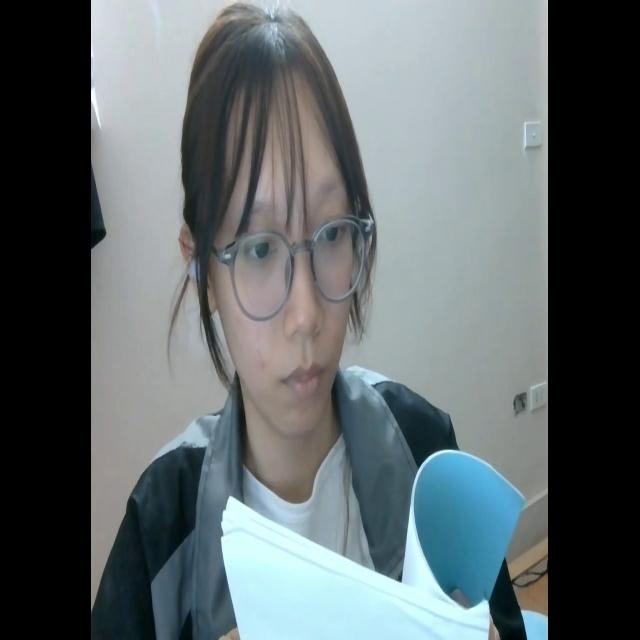book: (221, 446, 523, 640)
student: (105, 6, 531, 640)
